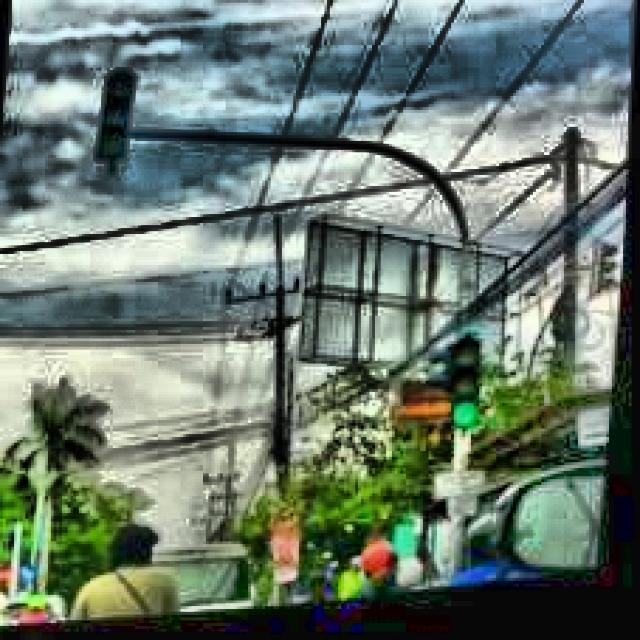green: (452, 347, 495, 442), (97, 72, 140, 165)
